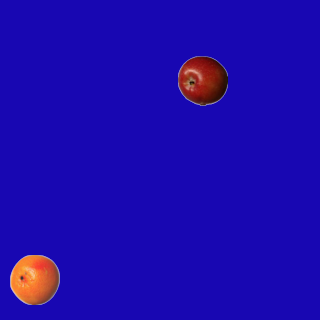Apple Braeburn: (177, 55, 227, 105)
Grapefruit Pink: (9, 254, 59, 304)
